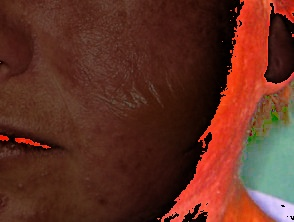SJS-TEN: (0, 0, 262, 221)
